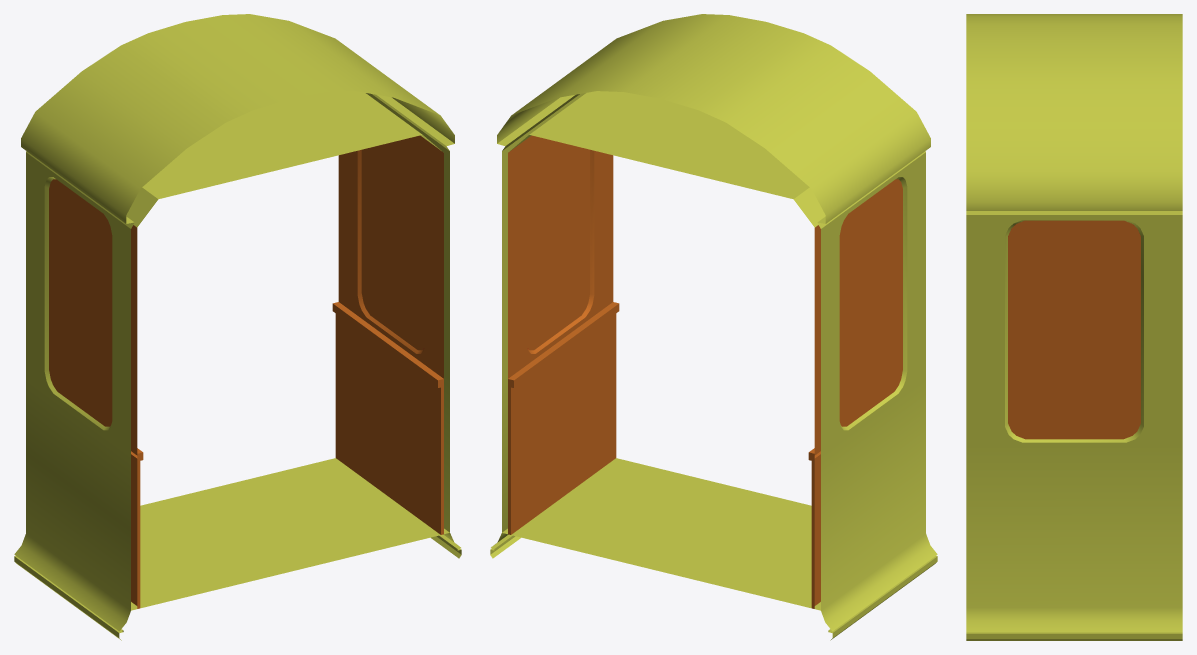
File: vagon tile lod1.FBX
3 views of the same model, side by side, from view 1: azimuth 30°, elevation 25°; view 2: azimuth 150°, elevation 25°; view 3: azimuth 270°, elevation 25° (orthographic). The views are drawn at different scales.
Visible parts, largest first — view 1: Object881; view 2: Object881; view 3: Object881.
Part boxes in pixels (x1,y1,x2,y2): Object881: [14, 14, 461, 640]; Object881: [490, 14, 937, 640]; Object881: [966, 14, 1182, 640].
Size of the model in its own units: 2.25 by 3.15 by 1.2.
